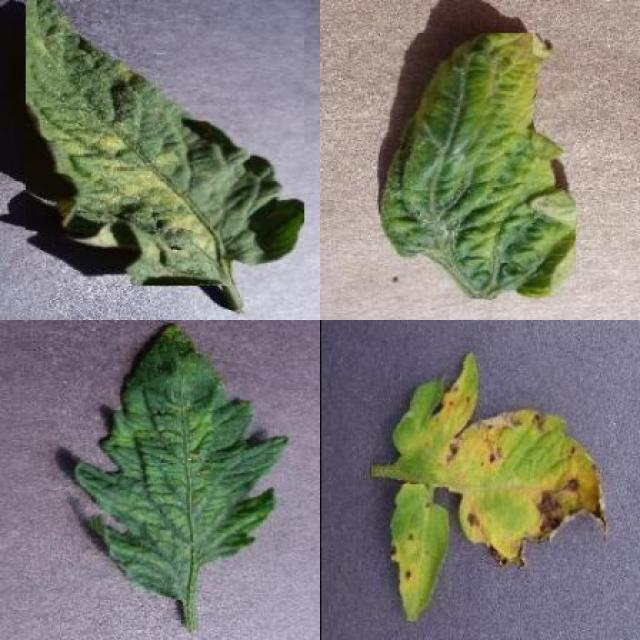Leaf Mold: (26, 0, 304, 286)
Mosaic Virus: (72, 324, 289, 600)
Septoria: (388, 356, 606, 568), (388, 484, 448, 622)
Yellow Leaf Curl Virus: (378, 34, 576, 299)
